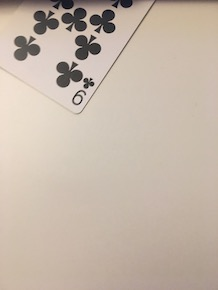NineOfClubs: (1, 2, 174, 120)
